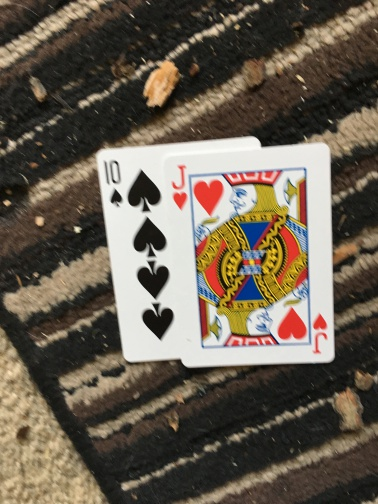jack: (171, 146, 336, 370)
ten: (96, 147, 176, 360)
